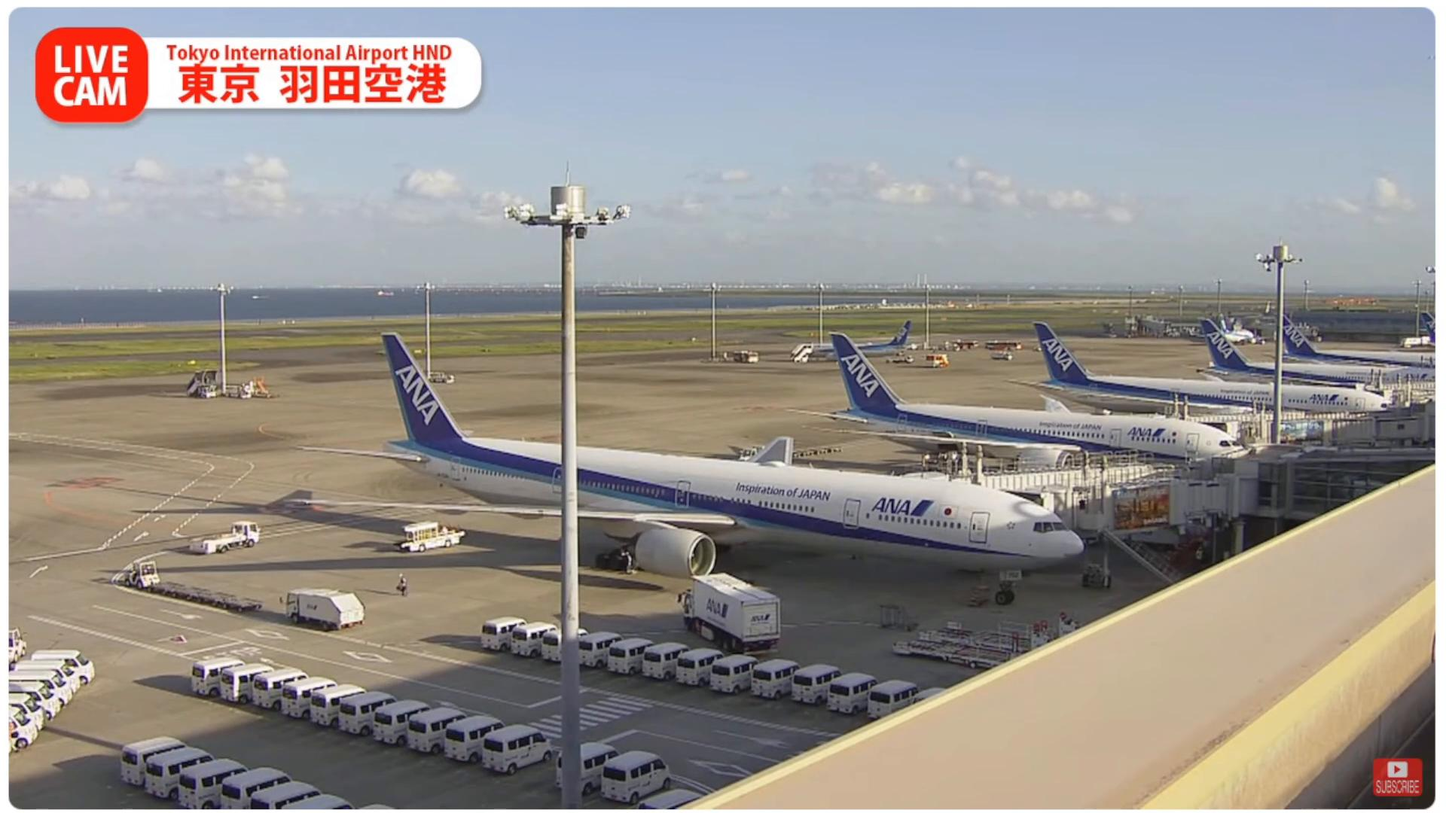Aerobridge: (990, 474, 1217, 521), (903, 458, 1204, 486)
Airplane: (297, 337, 1082, 587)
Baggage truck: (284, 585, 367, 630)
Catering: (680, 573, 784, 654)
Dolly: (144, 582, 263, 612)
Skyloader: (391, 520, 467, 554)
Tractor: (123, 563, 161, 587)
Window: (1253, 443, 1435, 520)
